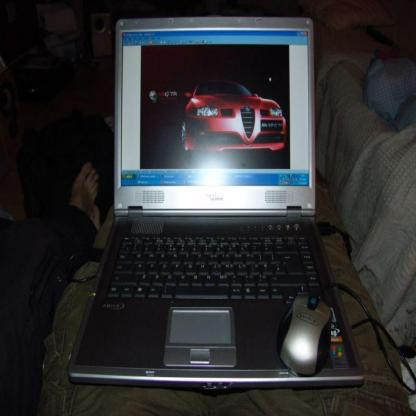board: (67, 6, 349, 402)
